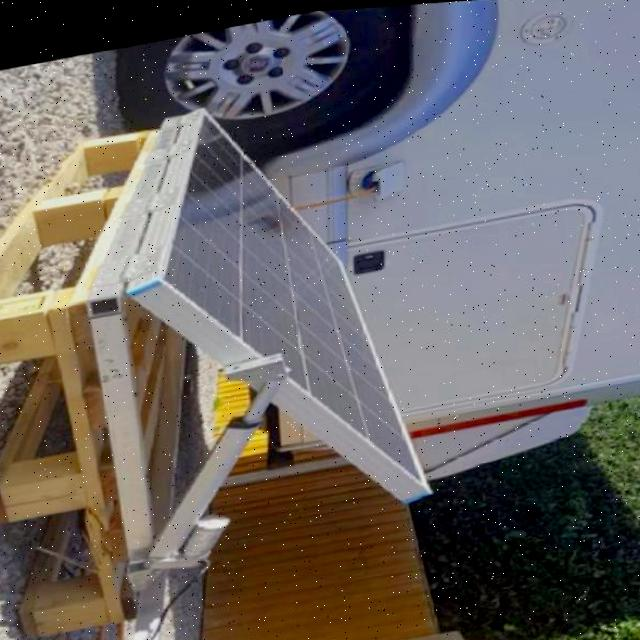Normal Solar Panel: (120, 68, 444, 536)
